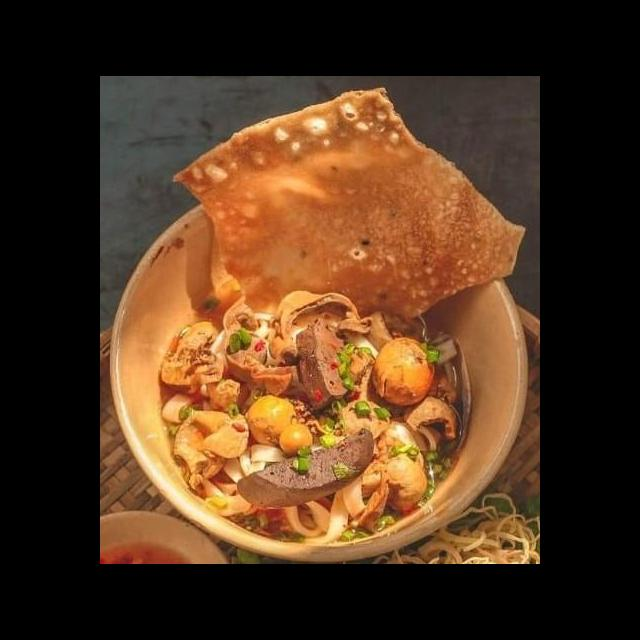banh da: (169, 83, 528, 330)
mi: (191, 440, 368, 546)
trung: (370, 335, 438, 409), (240, 392, 316, 458)
